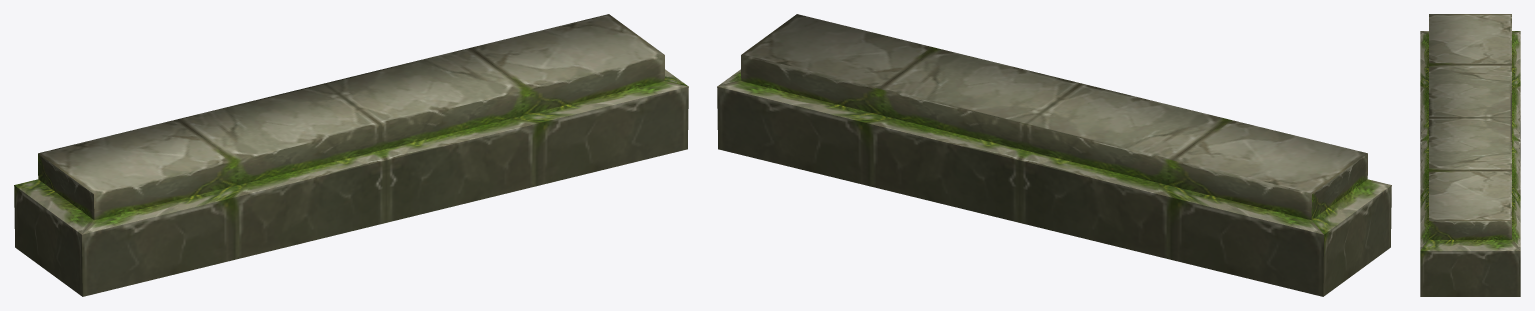
Rendered from qiang06_01.FBX.
3 views of the same model, side by side, from view 1: azimuth 30°, elevation 25°; view 2: azimuth 150°, elevation 25°; view 3: azimuth 270°, elevation 25° (orthographic). The views are drawn at different scales.
Parts seen in each view (by area): view 1: qiang06_01; view 2: qiang06_01; view 3: qiang06_01.
Part boxes in pixels (x1,y1,x2,y2): qiang06_01: (14, 14, 688, 296); qiang06_01: (717, 14, 1391, 296); qiang06_01: (1420, 14, 1520, 296).
Size of the model in its own units: 351 by 52.07 by 67.86.
1 material, 1 textured.
